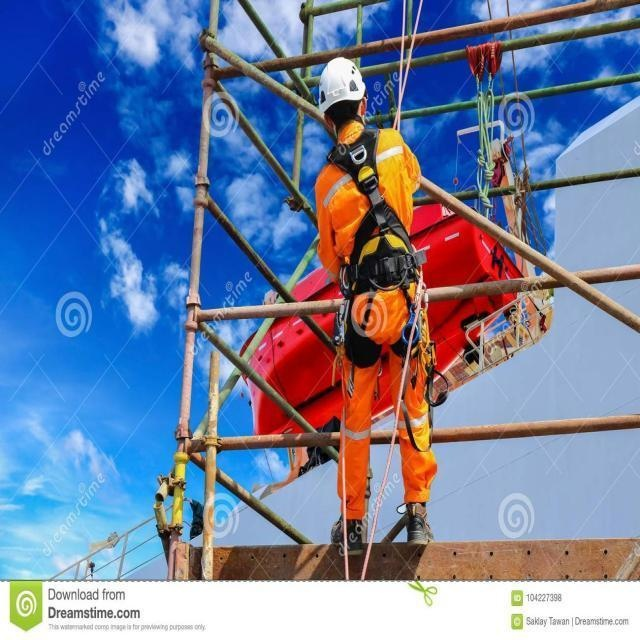Arnes_seguridad: (325, 123, 433, 361)
